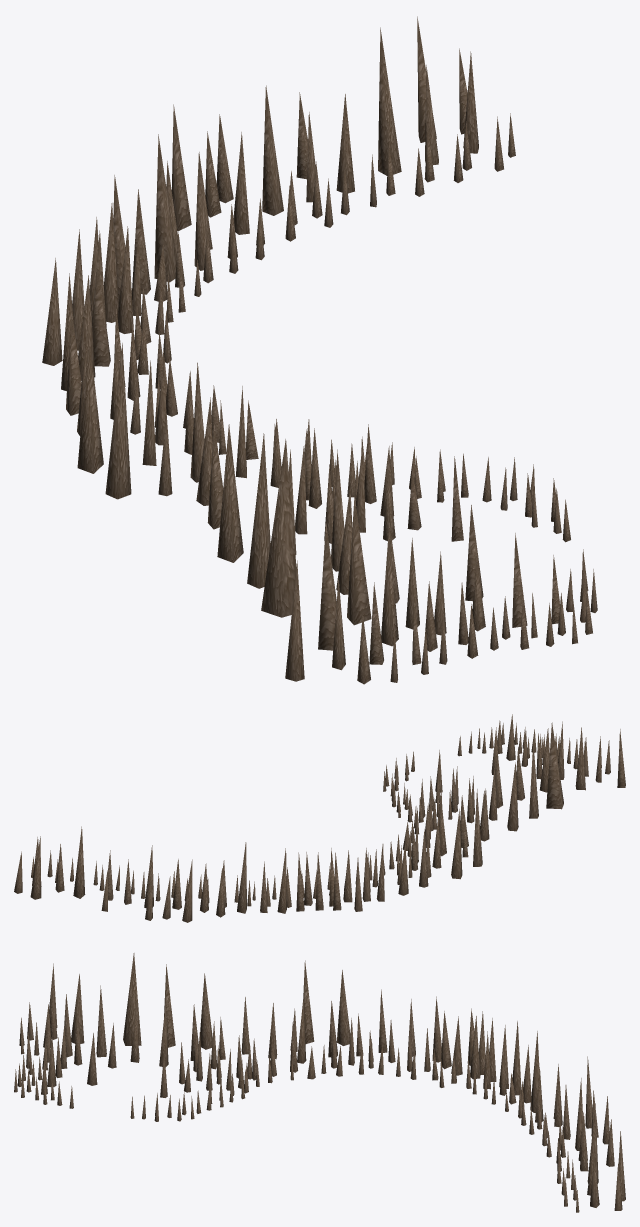
The model's file is area_12_23.fbx.
3 views of the same model, one above another, from view 1: azimuth 30°, elevation 25°; view 2: azimuth 150°, elevation 25°; view 3: azimuth 270°, elevation 25° (orthographic). The views are drawn at different scales.
Visible parts, largest first — view 1: area_12_23; view 2: area_12_23; view 3: area_12_23.
Boxes of the visible parts, bbox=[...] form: area_12_23: bbox=[42, 16, 597, 684]; area_12_23: bbox=[14, 714, 625, 922]; area_12_23: bbox=[14, 953, 625, 1212].
Bounding box in the file's own units: 86.55 × 20.08 × 119.
